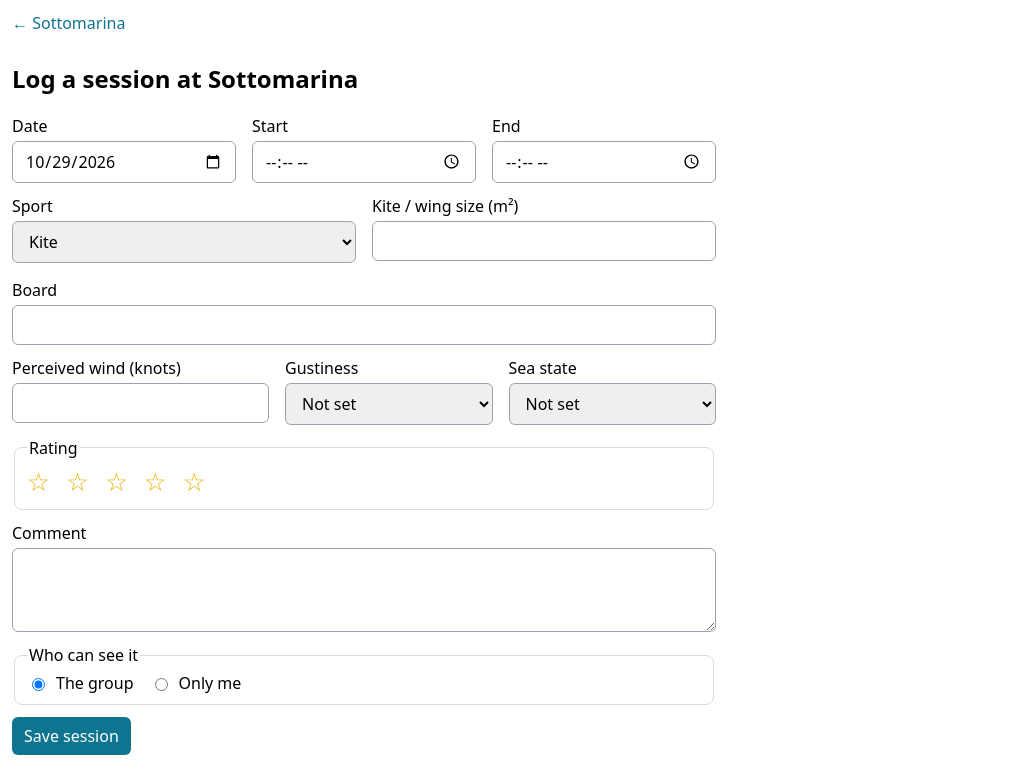
SessionFormPage › shows the issues the server finds, next to their fields
The width and height of the screenshot is (1036, 780).
Click the button "Save session".
click(71, 736)  # box top-left (12, 717), bottom-right (131, 755)
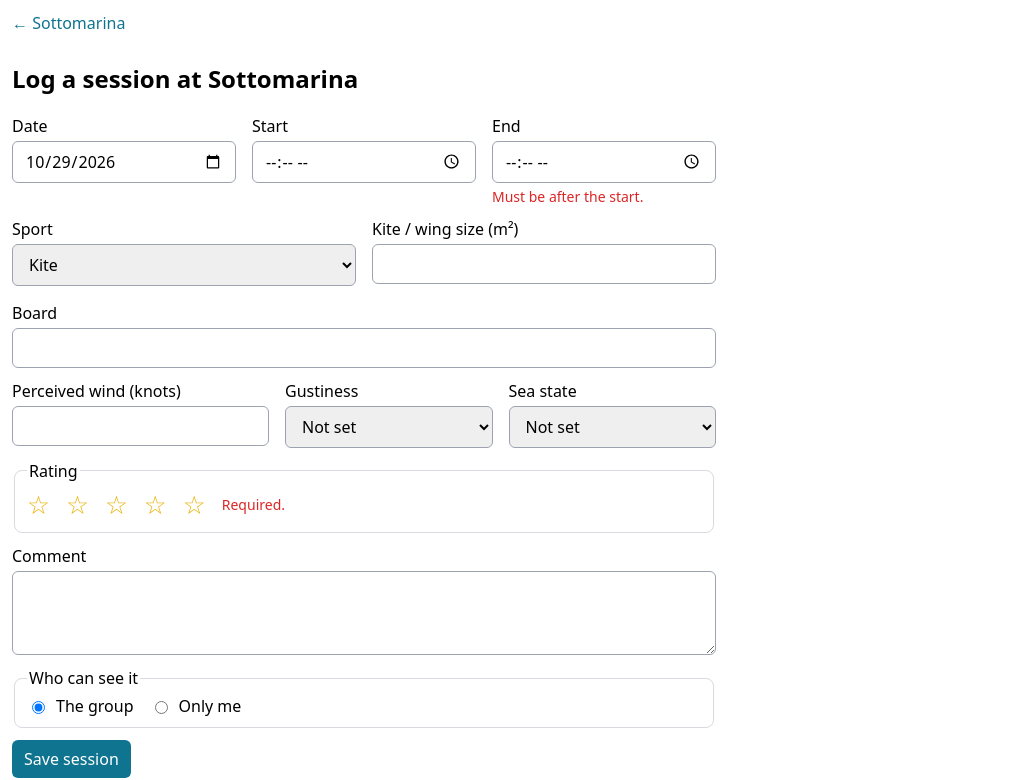
Check: the text "Must be after the start." is shown, box top-left (492, 187), bottom-right (643, 206)
Check: the text "Required." is shown, box top-left (222, 495), bottom-right (285, 514)
